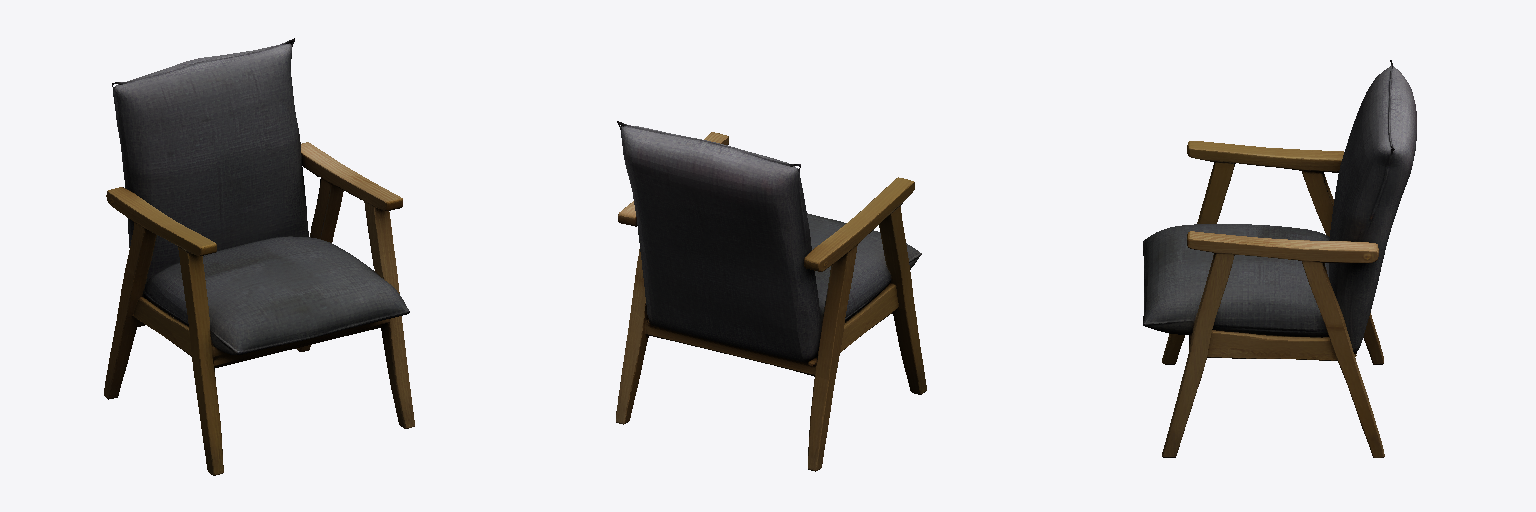
3 views of the same model, side by side, from view 1: azimuth 30°, elevation 25°; view 2: azimuth 150°, elevation 25°; view 3: azimuth 270°, elevation 25° (orthographic).
Parts seen in each view (by area): view 1: geometry_0; view 2: geometry_0; view 3: geometry_0.
Boxes of the visible parts, <box> form: geometry_0: <box>104,38,414,475</box>; geometry_0: <box>616,121,926,471</box>; geometry_0: <box>1143,60,1416,457</box>.
Bounding box in the file's own units: 0.691 × 0.999 × 0.8072.
Materials: 1 (1 with a texture image).